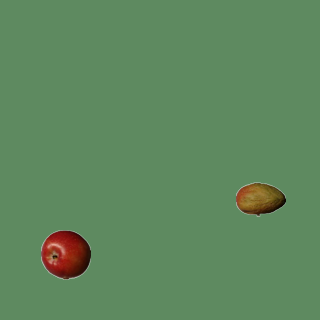Apple Braeburn: (40, 229, 90, 279)
Papaya: (235, 174, 285, 224)
